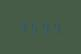five: (29, 19, 39, 33)
four: (51, 20, 61, 34)
nine: (40, 20, 50, 34)
three: (18, 19, 28, 33)
